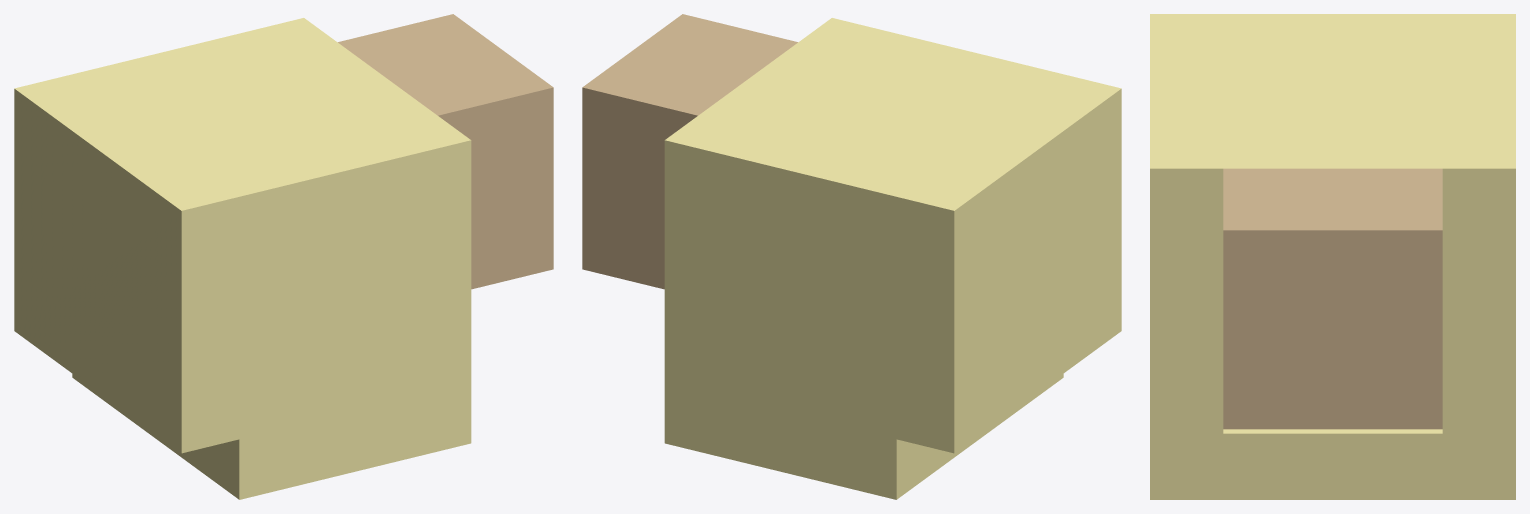
The model's file is kiritan_ArmL.obj.
The picture shows the model from 3 angles, left to right: view 1: azimuth 30°, elevation 25°; view 2: azimuth 150°, elevation 25°; view 3: azimuth 270°, elevation 25°; orthographic projection. The views are drawn at different scales.
Visible parts, largest first — view 1: kiritan_ArmL; view 2: kiritan_ArmL; view 3: kiritan_ArmL.
Part boxes in pixels (<box>): kiritan_ArmL: <box>14,14,553,499</box>; kiritan_ArmL: <box>582,14,1121,499</box>; kiritan_ArmL: <box>1150,14,1515,499</box>.
Size of the model in its own units: 7 by 5 by 5.
1 material, 1 textured.
